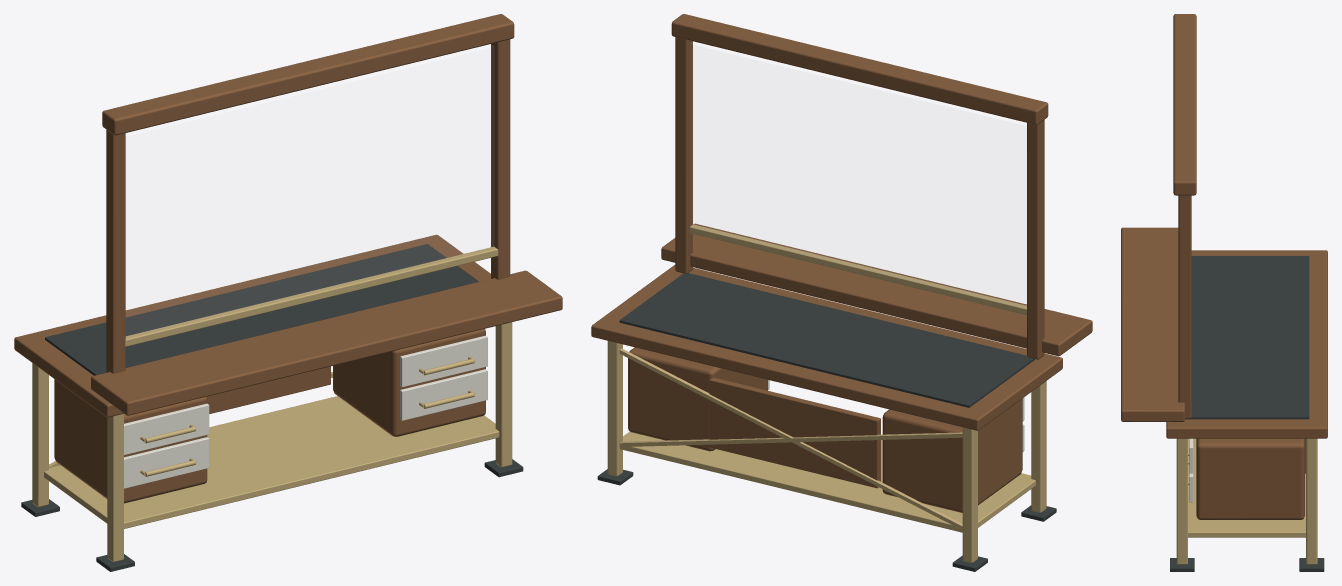
The model's file is city-courthouse-and-records-office-city-courthouse-and-29bbc663__30985.glb.
3 views of the same model, side by side, from view 1: azimuth 30°, elevation 25°; view 2: azimuth 150°, elevation 25°; view 3: azimuth 270°, elevation 25° (orthographic). The views are drawn at different scales.
Visible parts, largest first — view 1: city-courthouse-and-records-office-records-service-counter; view 2: city-courthouse-and-records-office-records-service-counter; view 3: city-courthouse-and-records-office-records-service-counter.
Boxes of the visible parts, x1=… form: city-courthouse-and-records-office-records-service-counter: x1=14, y1=14, x2=562, y2=571; city-courthouse-and-records-office-records-service-counter: x1=591, y1=14, x2=1092, y2=571; city-courthouse-and-records-office-records-service-counter: x1=1121, y1=14, x2=1327, y2=571.
Bounding box in the file's own units: 2.45 × 2.41 × 1.16.
